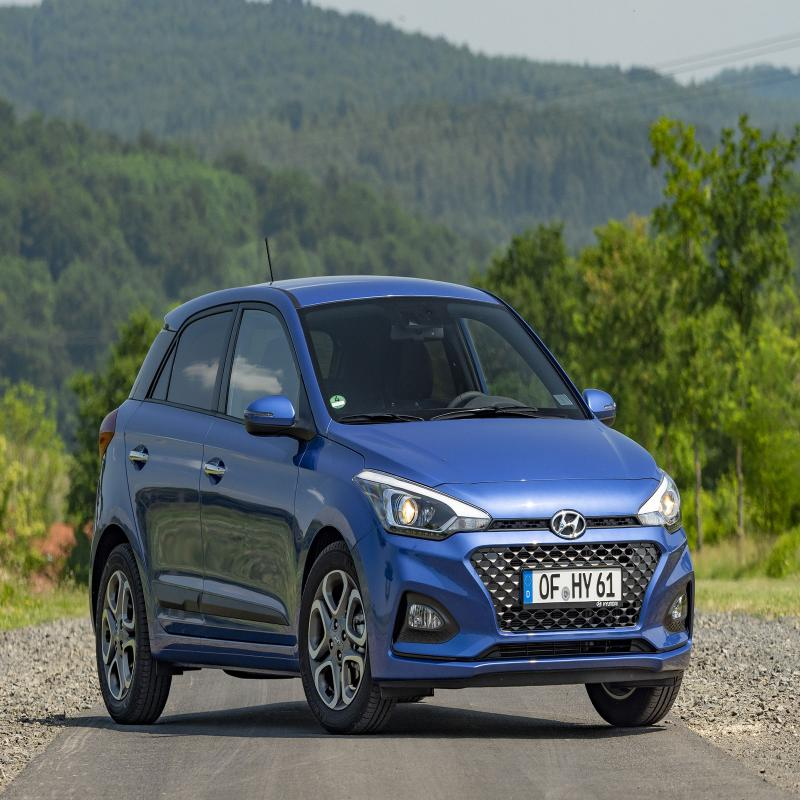car: (80, 248, 693, 746)
